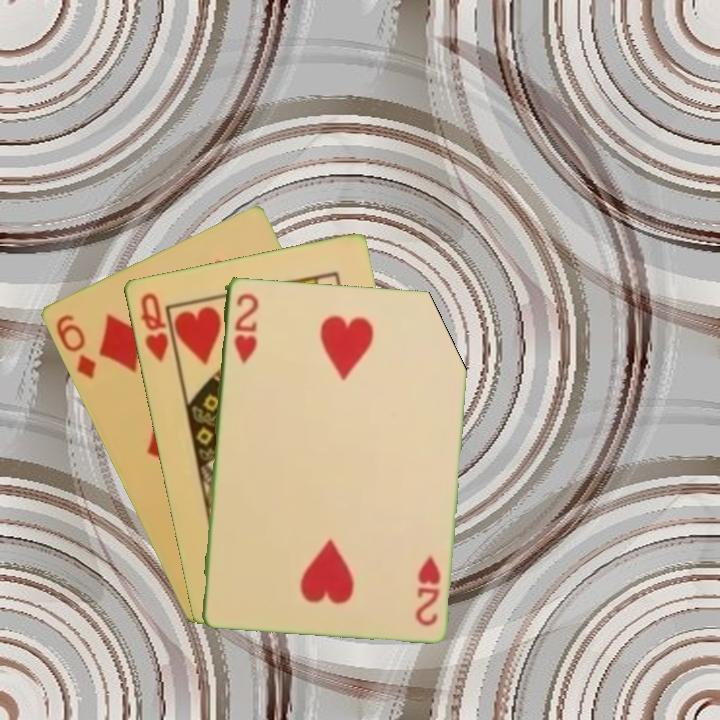2h: (411, 551, 443, 629), (230, 289, 261, 367)
6d: (51, 310, 99, 382)
Qh: (136, 289, 171, 364)
